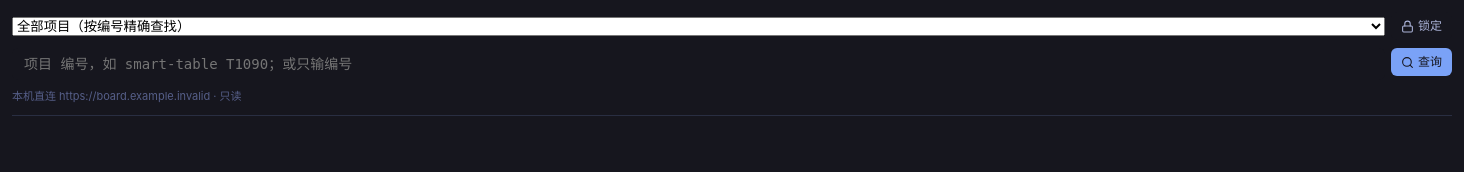
Test: keeps a missing same-slug project unlocked but lets the user select another visible project
The image size is (1464, 172).
Expected: the button "解锁" is not shown
Select "Shared · shared" in the dropdown named "查询项目" at [698, 26], box [12,16,1385,36]
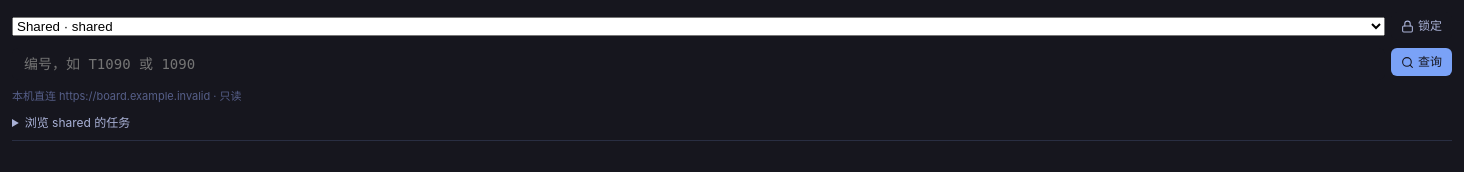
Click the button "锁定" at [1422, 26], box [1391,12,1452,40]
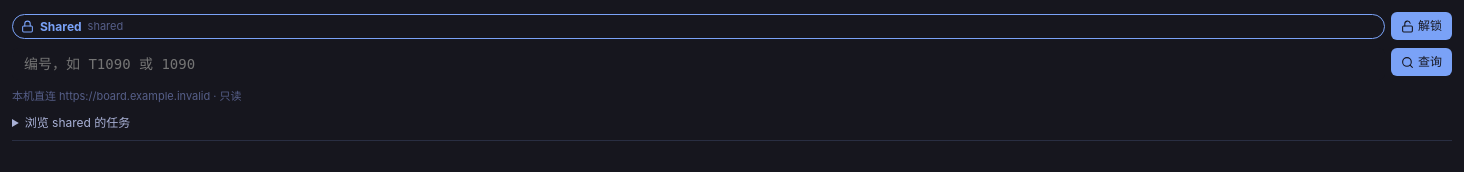
Now the text "shared" is shown, box [88,19,123,33]
